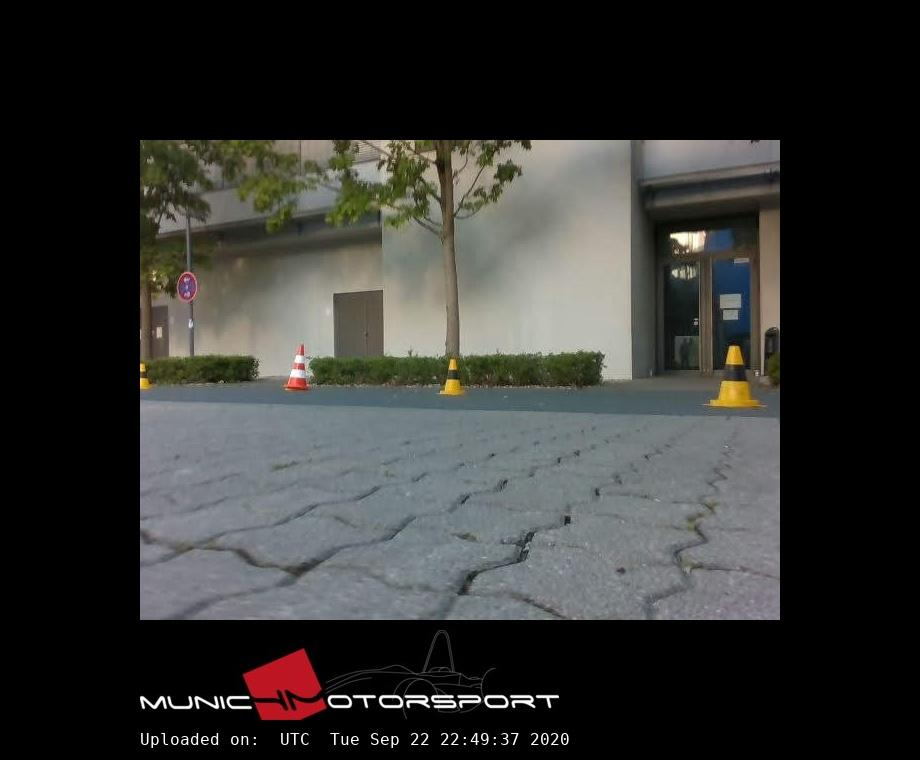large_orange_cone: (284, 344, 308, 389)
yellow_cone: (704, 346, 763, 407), (441, 360, 464, 394), (141, 364, 150, 388)
